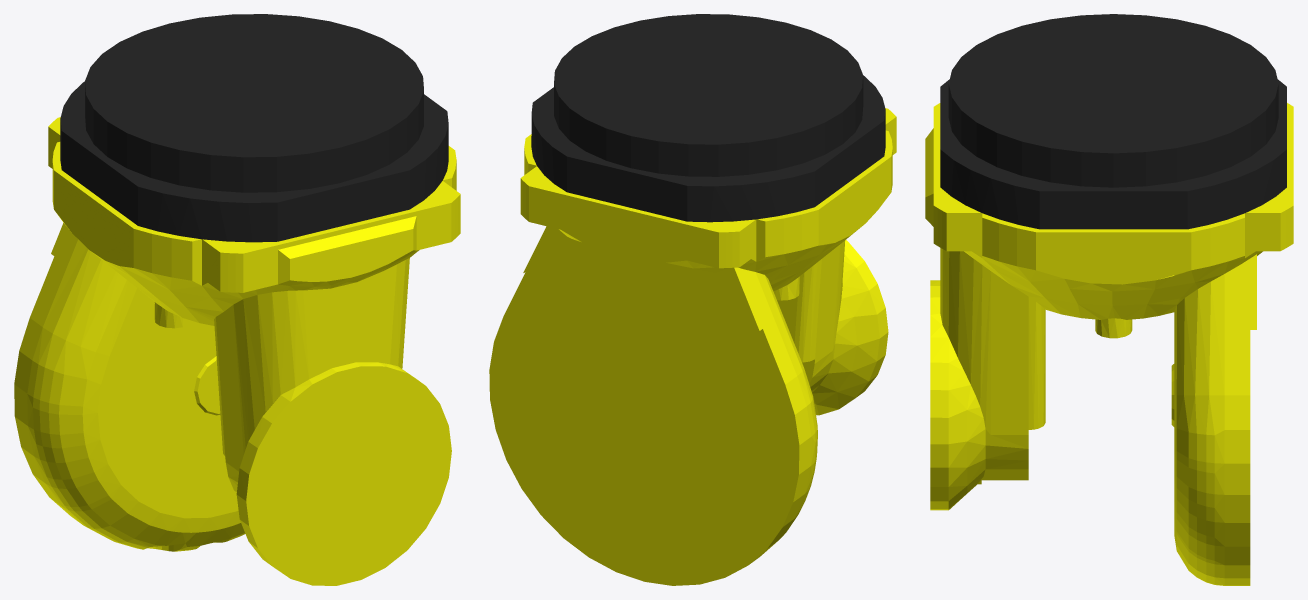
3 renders of one model, left to right at view 1: azimuth 30°, elevation 25°; view 2: azimuth 150°, elevation 25°; view 3: azimuth 270°, elevation 25°, orthographic. The views are drawn at different scales.
Parts seen in each view (by area): view 1: node; view 2: node; view 3: node.
Boxes of the visible parts, x1,y1,x2,y2 form: node: [14, 14, 460, 585]; node: [489, 14, 896, 585]; node: [925, 14, 1293, 585].
Bounding box in the file's own units: 226 × 318 × 219.
